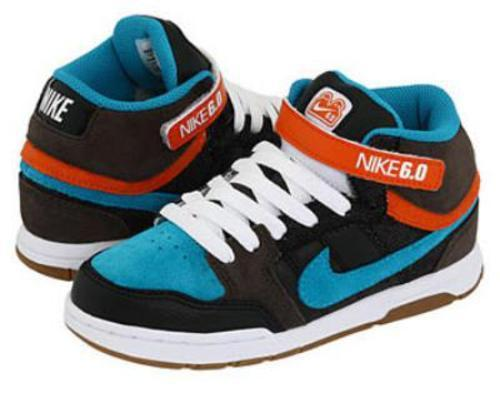nike: (295, 232, 453, 308)
